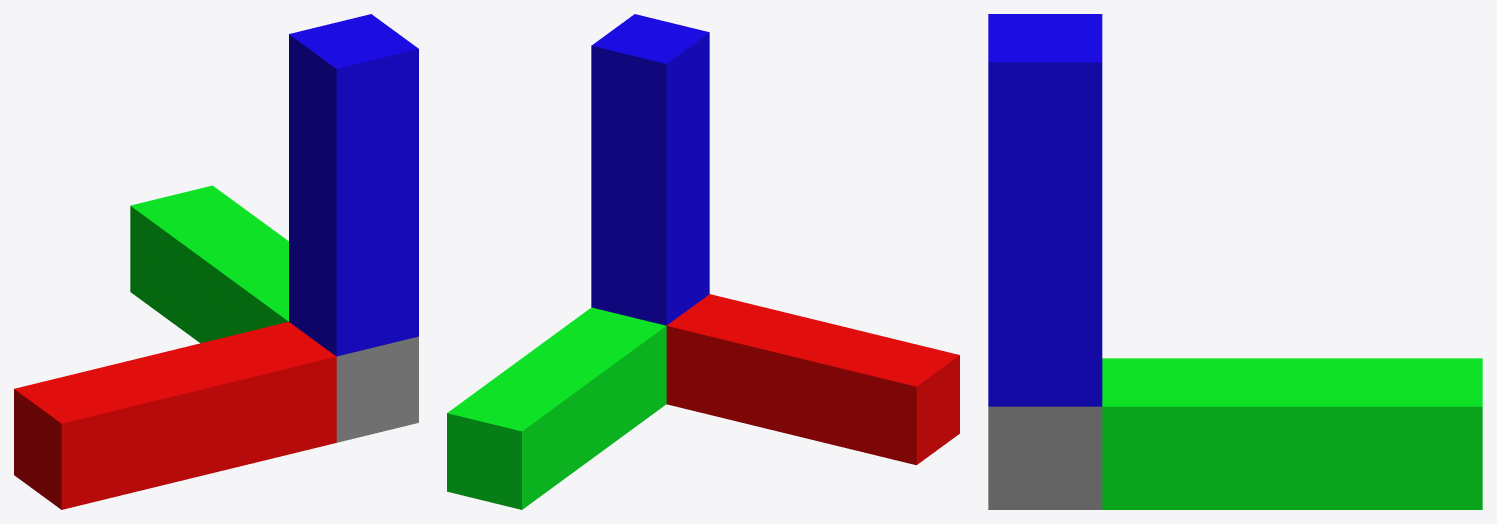
Rendered from QuaternionMarker.fbx.
3 renders of one model, left to right at view 1: azimuth 30°, elevation 25°; view 2: azimuth 150°, elevation 25°; view 3: azimuth 270°, elevation 25°, orthographic. The views are drawn at different scales.
Parts seen in each view (by area): view 1: QuaternionMarker; view 2: QuaternionMarker; view 3: QuaternionMarker.
Part boxes in pixels (bbox=[...]): QuaternionMarker: bbox=[14, 14, 418, 509]; QuaternionMarker: bbox=[447, 14, 959, 509]; QuaternionMarker: bbox=[988, 14, 1482, 509].
Bounding box in the file's own units: 0.2064 × 0.2064 × 0.2064.
